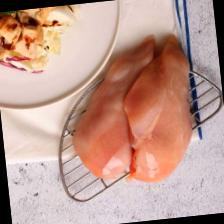chicken: (62, 34, 168, 182), (116, 34, 202, 186)
